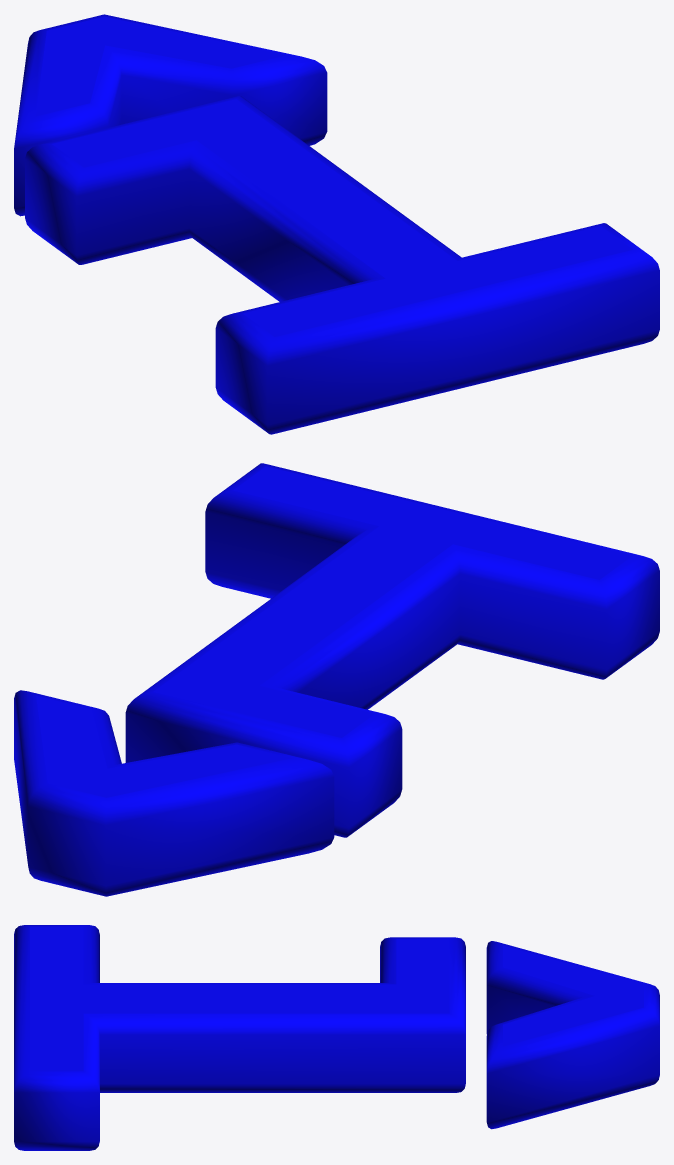
The picture shows the model from 3 angles, top to bottom: view 1: azimuth 30°, elevation 25°; view 2: azimuth 150°, elevation 25°; view 3: azimuth 270°, elevation 25°; orthographic projection. The views are drawn at different scales.
Parts seen in each view (by area): view 1: 238; view 2: 238; view 3: 238.
Boxes of the visible parts, x1,y1,x2,y2 form: 238: (14,14,659,434); 238: (14,463,659,896); 238: (14,925,659,1150).
Size of the model in its own units: 0.6963 by 0.16 by 1.2.
